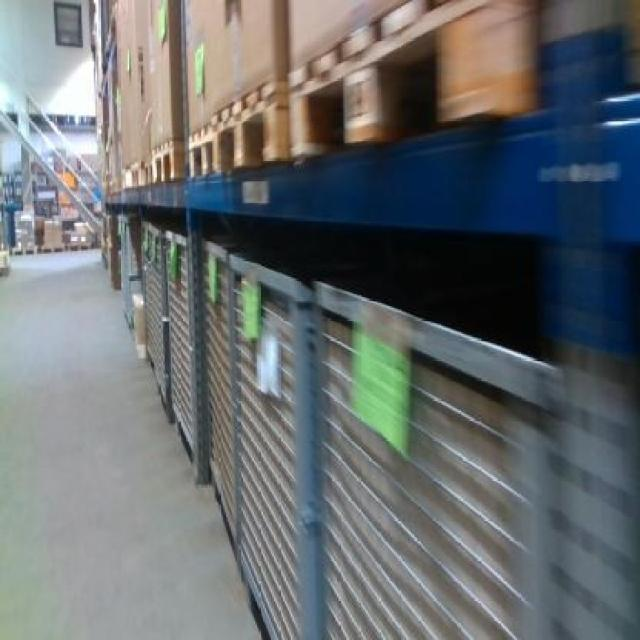pallets: (94, 0, 637, 637)
